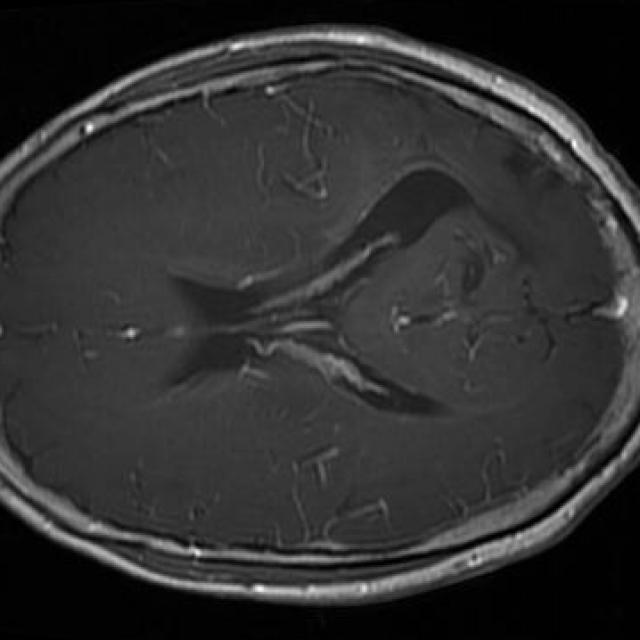glioma: (328, 71, 572, 219)
